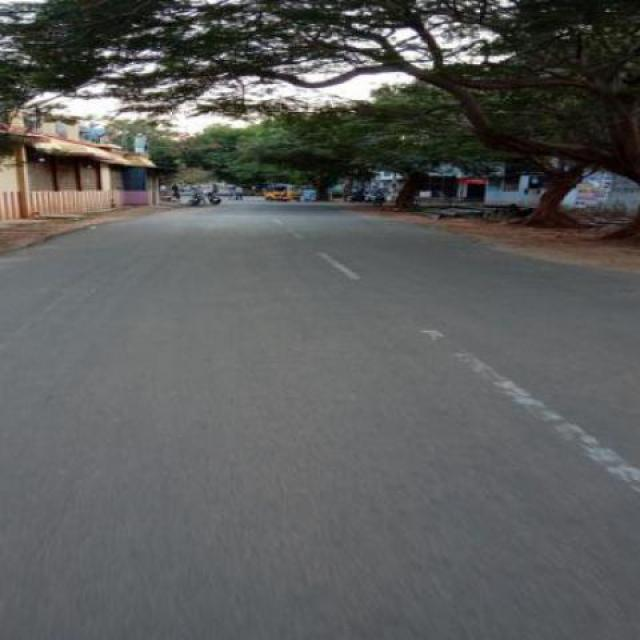Unmarked Bump: (220, 201, 343, 208)
